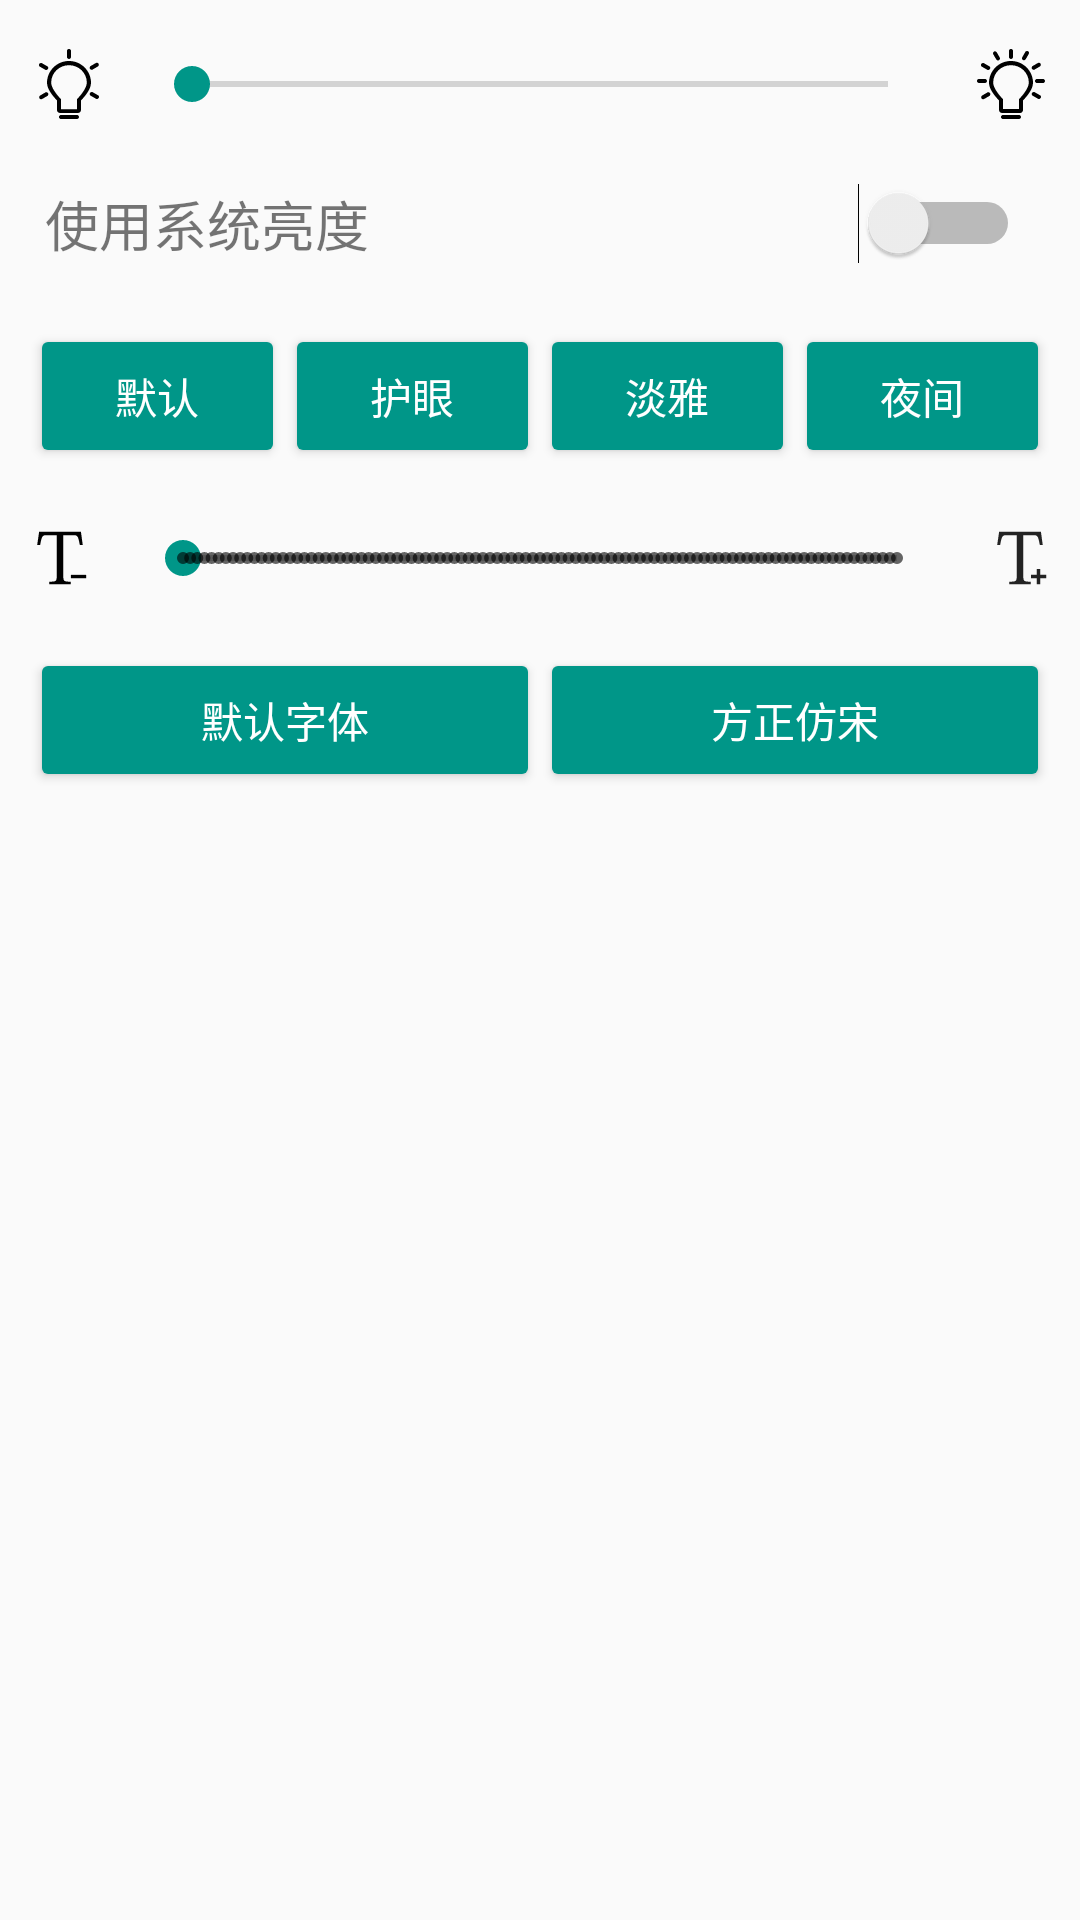

Icons on this 1080px×1920px Android screen, each with its box as box(x1, y1, x2, y2):
reader high: box(977, 49, 1045, 119)
reader low: box(39, 49, 99, 119)
reader size add: box(997, 531, 1047, 585)
reader size lass: box(37, 531, 87, 585)
